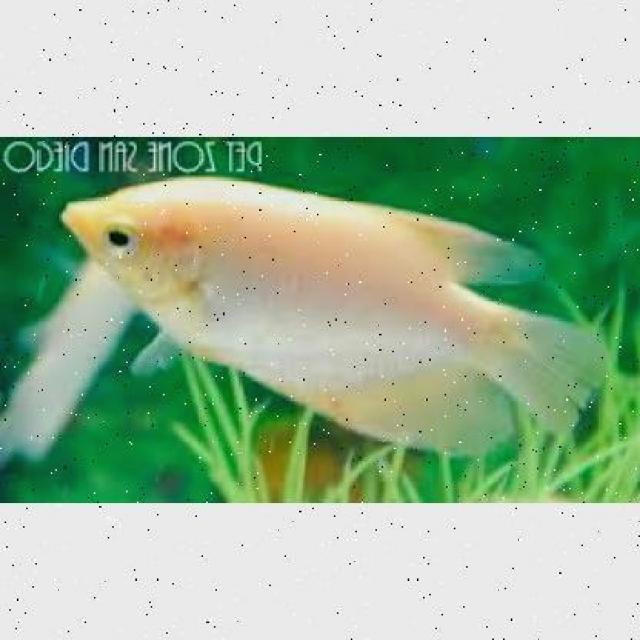gurame: (46, 176, 594, 450)
